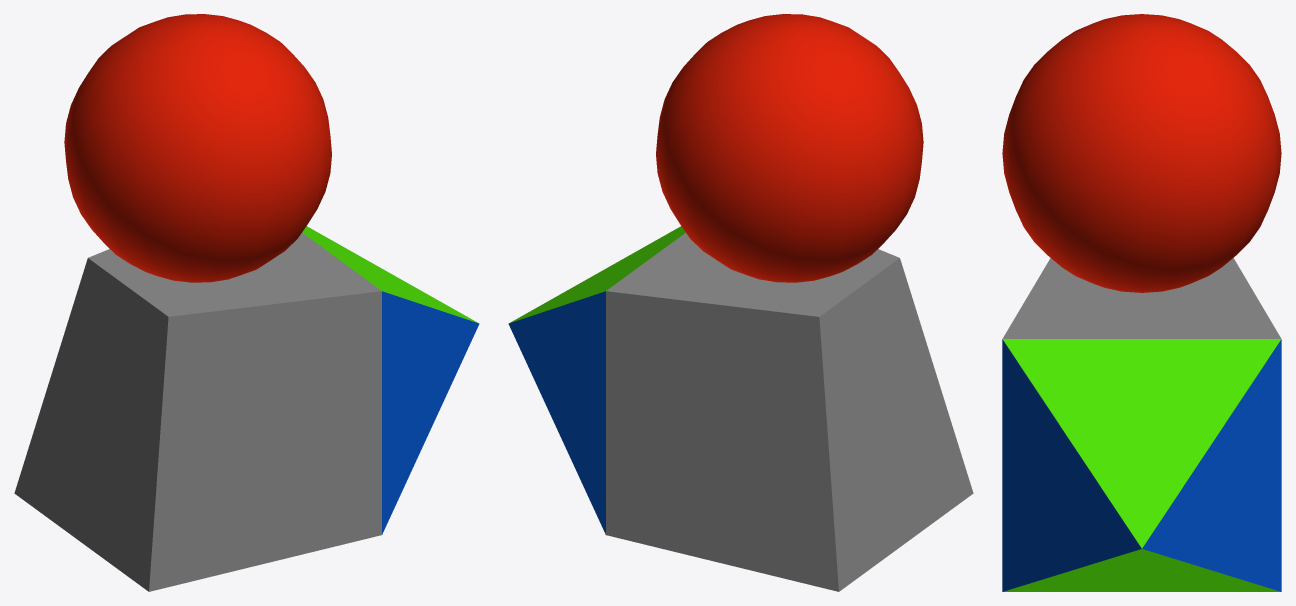
File: SkinXX_StaticMesh.fbx
The picture shows the model from 3 angles, left to right: view 1: azimuth 30°, elevation 25°; view 2: azimuth 150°, elevation 25°; view 3: azimuth 270°, elevation 25°; orthographic projection. The views are drawn at different scales.
Parts seen in each view (by area): view 1: MyObject; view 2: MyObject; view 3: MyObject.
Part boxes in pixels (box(x1,y1,x2,y2)): MyObject: box(14, 14, 479, 591); MyObject: box(508, 14, 973, 591); MyObject: box(1002, 14, 1281, 591).
Size of the model in its own units: 171 by 200 by 100.
